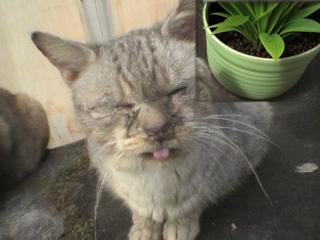cat: (32, 1, 274, 238)
pottedplant: (195, 1, 320, 101)
